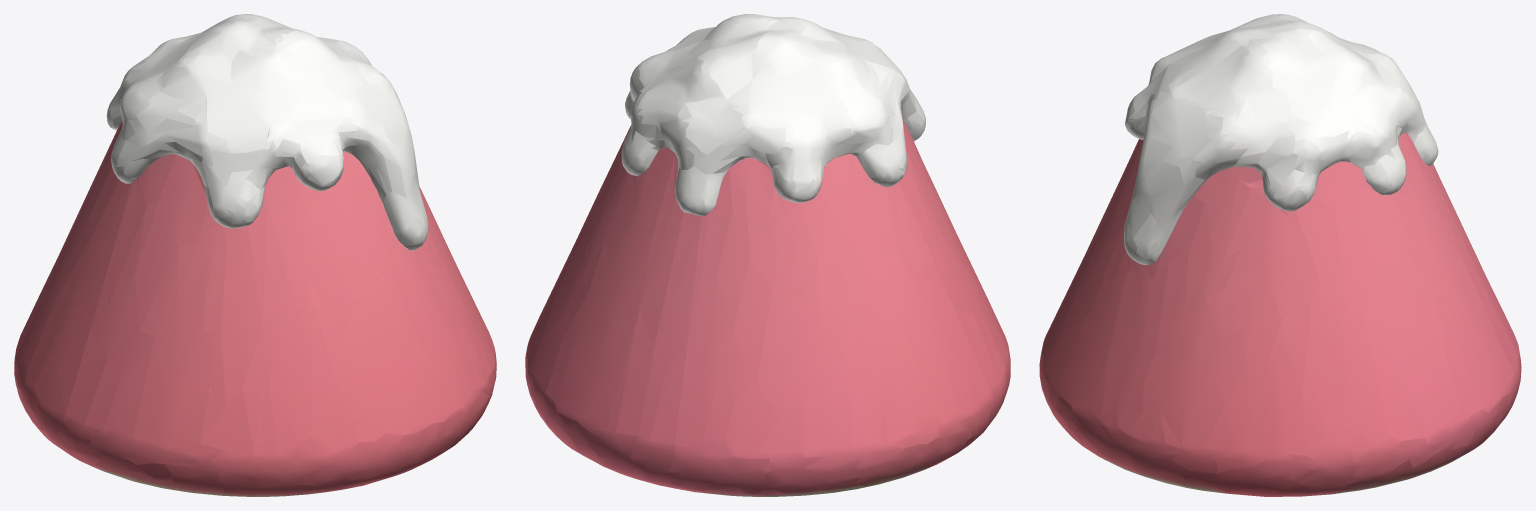
File: candy-peak-pink.glb
The picture shows the model from 3 angles, left to right: view 1: azimuth 30°, elevation 25°; view 2: azimuth 150°, elevation 25°; view 3: azimuth 270°, elevation 25°; orthographic projection.
Visible parts, largest first — view 1: mesh_node; view 2: mesh_node; view 3: mesh_node.
Boxes of the visible parts, bbox=[...] form: mesh_node: bbox=[14, 14, 496, 496]; mesh_node: bbox=[525, 14, 1010, 496]; mesh_node: bbox=[1039, 14, 1521, 496].
Bounding box in the file's own units: 1.9 × 1.64 × 1.9.
Materials: 1 (1 with a texture image).
